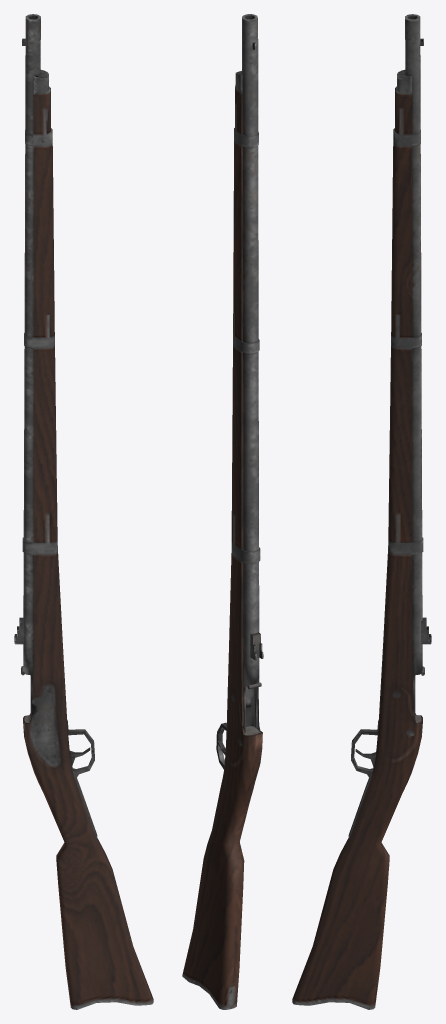
Rendered from 1875Gun.fbx.
The picture shows the model from 3 angles, left to right: view 1: azimuth 90°, elevation 25°; view 2: azimuth 210°, elevation 25°; view 3: azimuth 270°, elevation 25°; orthographic projection.
Parts seen in each view (by area): view 1: Musket2; view 2: Musket2; view 3: Musket2.
Part boxes in pixels (<box>): Musket2: <box>14,14,153,1009</box>; Musket2: <box>182,14,263,1009</box>; Musket2: <box>292,14,431,1009</box>.
Bounding box in the file's own units: 0.014 × 0.7901 × 0.101.
